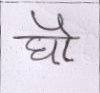au_matra: (52, 14, 76, 60)
